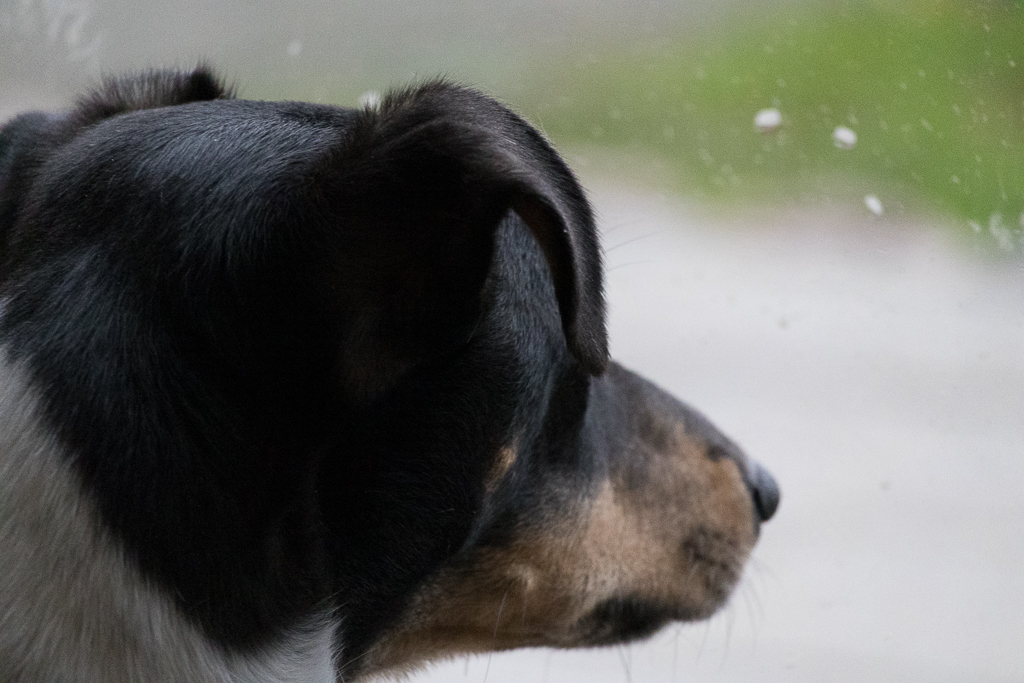Dog: (0, 47, 801, 683)
